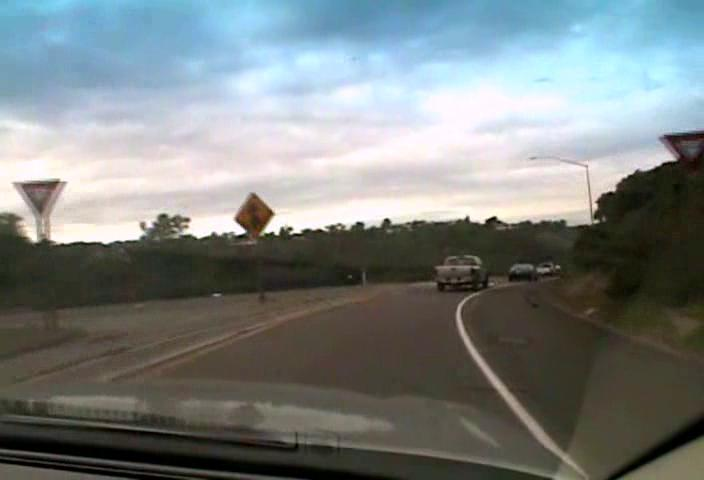merge: (233, 190, 275, 238)
